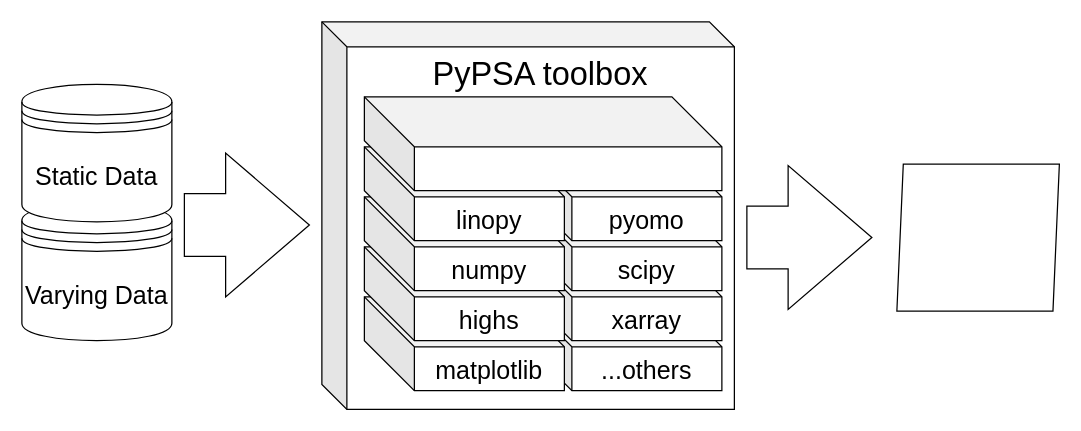
Image size: 1081x431. Some labels were removed from this diagram. Here are the shapes that lost their labels. From the top down, the centre of each, then its label:
(x=542, y=143): pypsa
(x=977, y=237): Optimised Solution
